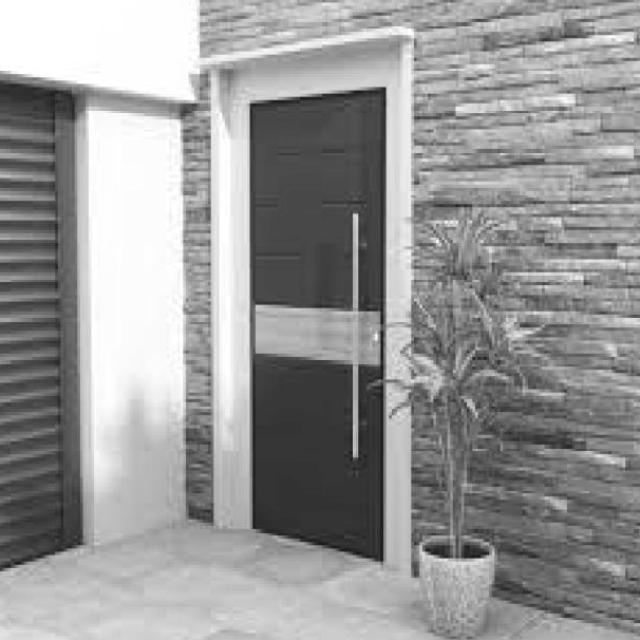door: (248, 87, 386, 561)
